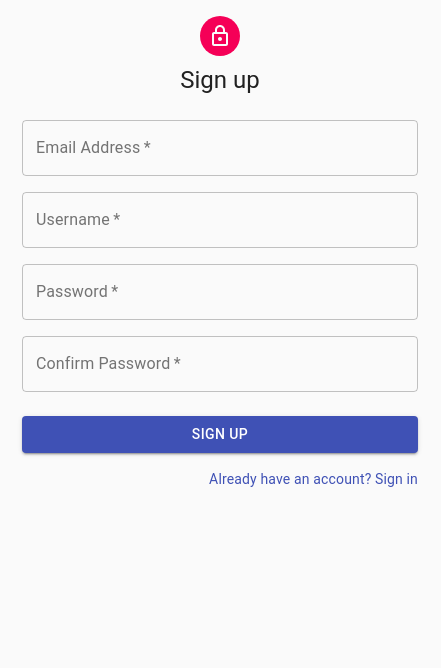
Test: SignUp › on submit › error response
The width and height of the screenshot is (441, 668).
Step 1. Click the button with test id "sign-up-button" → (220, 434), box 22,416 -> 418,452
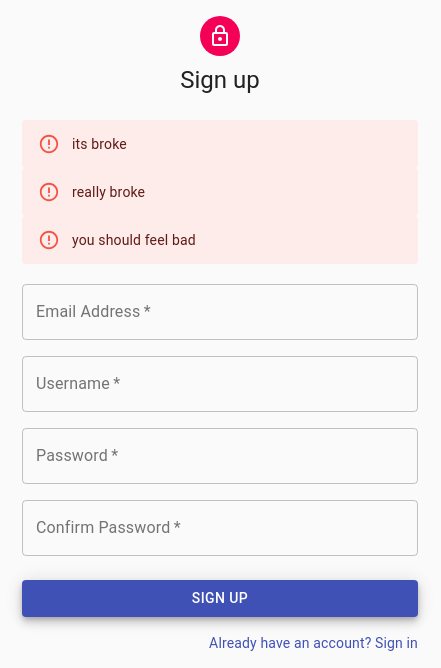
Result: the text "its broke" is shown at 72,136 -> 127,152
Result: the text "really broke" is shown at 72,184 -> 145,200
Result: the text "you should feel bad" is shown at 72,232 -> 196,248
